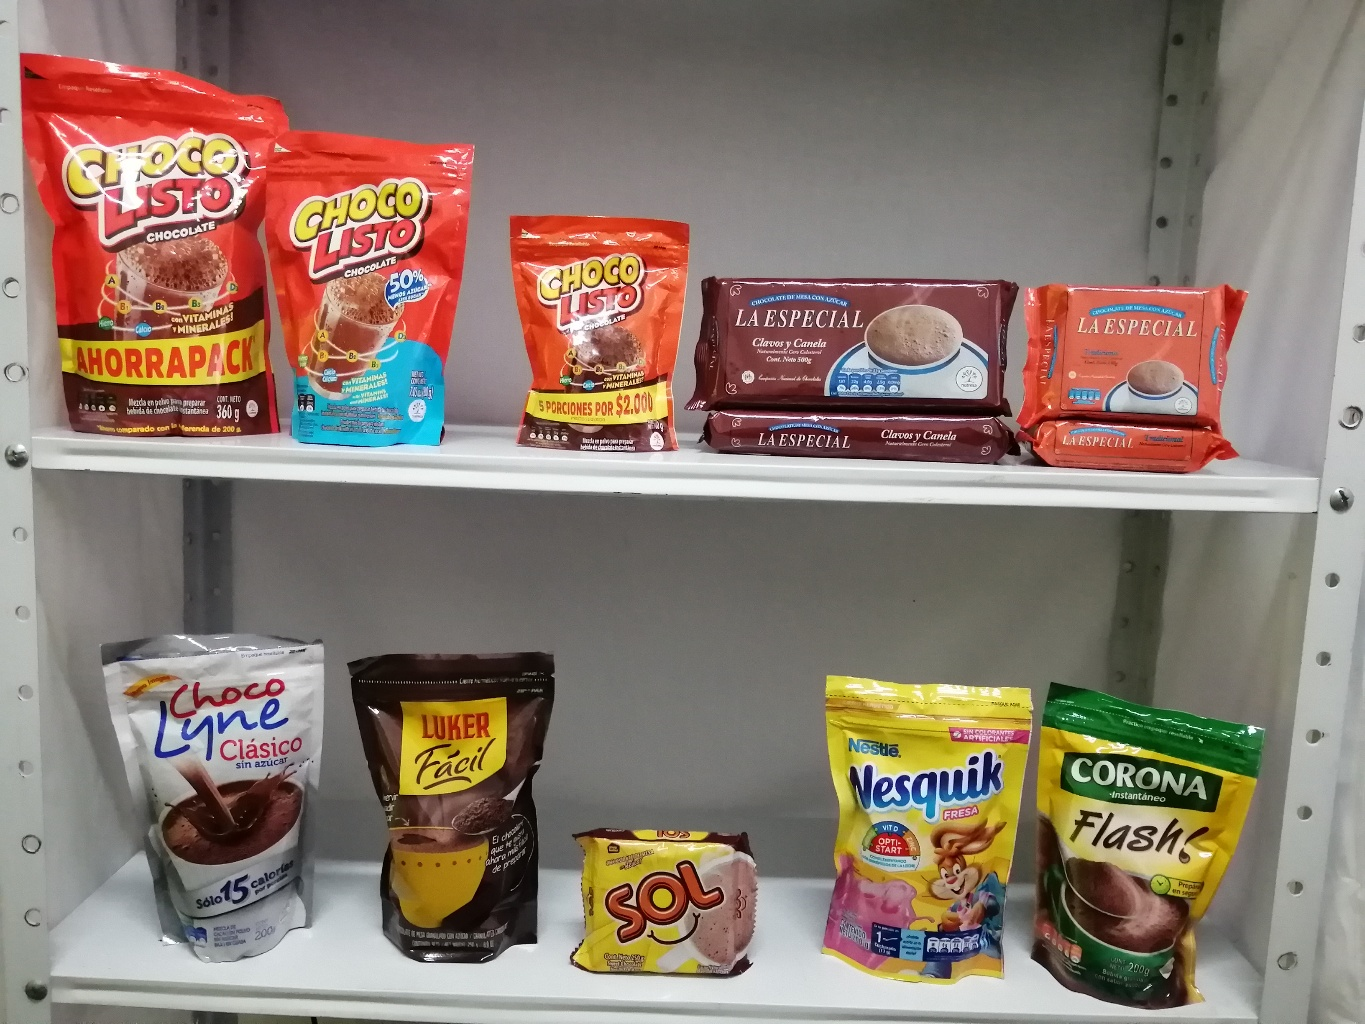COL0170103DYP36000: (8, 41, 293, 444)
COL0170104DYP20000: (241, 116, 482, 454)
COL0170305DYP20000: (807, 658, 1030, 989)
